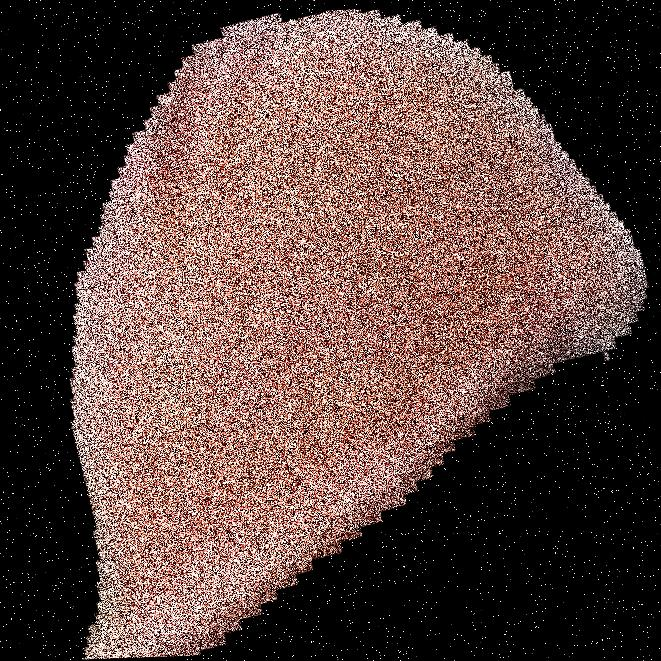Capacete: (186, 0, 401, 660)
